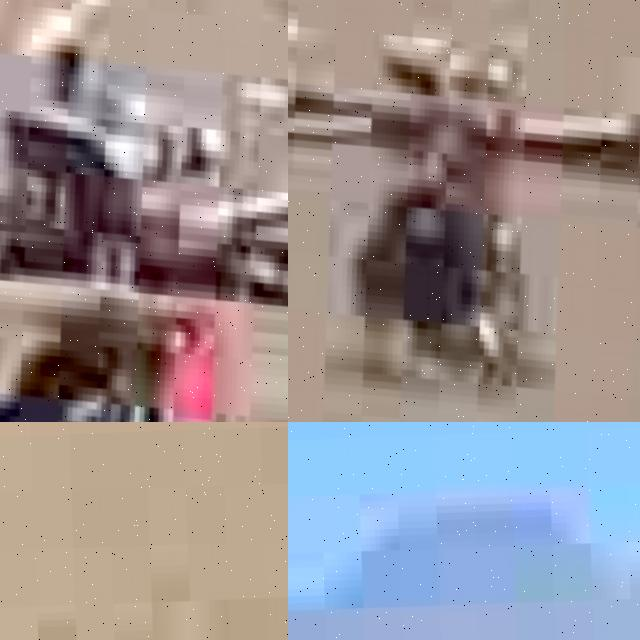drone: (288, 0, 640, 422), (0, 0, 288, 422)
